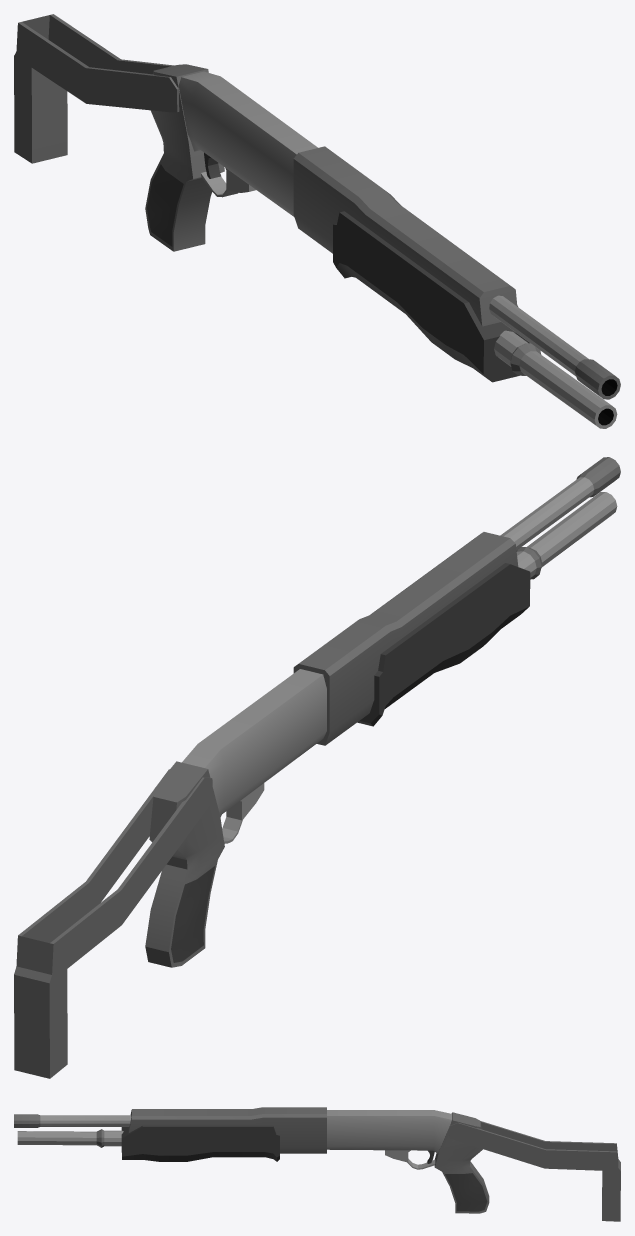
3 views of the same model, one above another, from view 1: azimuth 30°, elevation 25°; view 2: azimuth 150°, elevation 25°; view 3: azimuth 270°, elevation 25° (orthographic). The views are drawn at different scales.
Visible parts, largest first — view 1: shotgun_3; view 2: shotgun_3; view 3: shotgun_3.
Boxes of the visible parts, x1,y1,x2,y2 form: shotgun_3: [14, 14, 620, 428]; shotgun_3: [14, 457, 620, 1078]; shotgun_3: [14, 1107, 620, 1221].
Bounding box in the file's own units: 15.57 × 65.17 × 336.
1 material, 1 textured.
